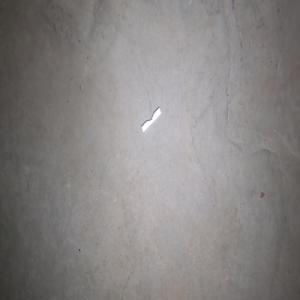ClampPart: (140, 106, 161, 134)
